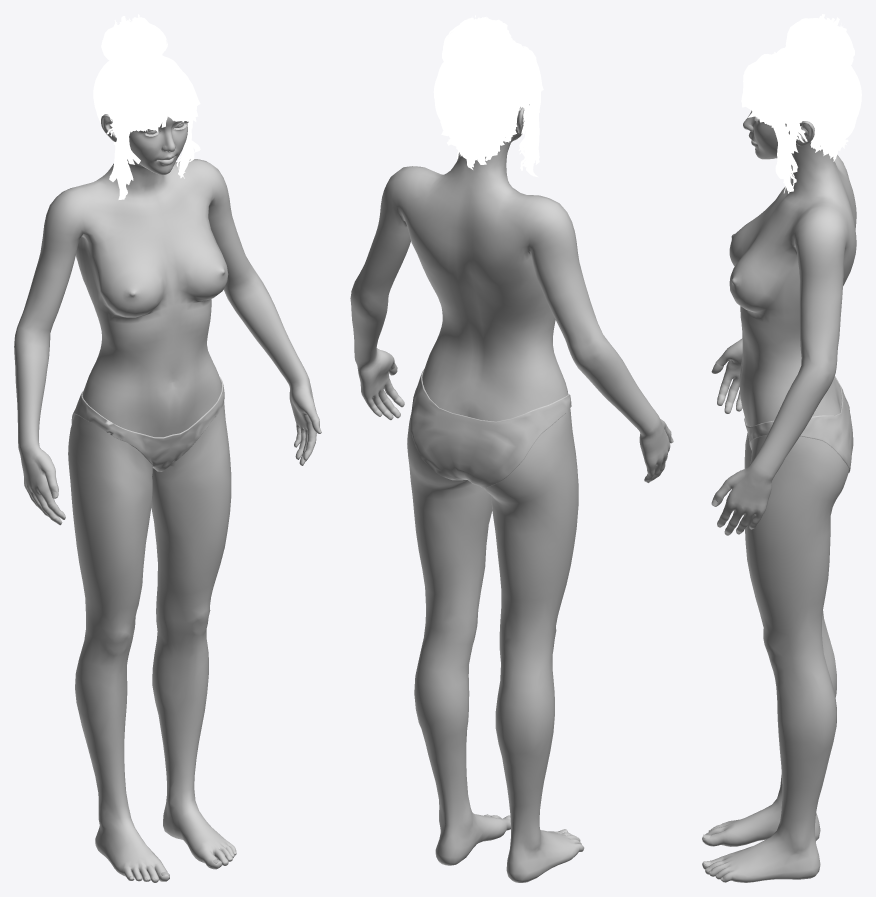
The model's file is body.glb.
3 views of the same model, side by side, from view 1: azimuth 30°, elevation 25°; view 2: azimuth 150°, elevation 25°; view 3: azimuth 270°, elevation 25° (orthographic). The views are drawn at different scales.
Parts seen in each view (by area): view 1: Body, Hair_30629, Underwear_Bottoms; view 2: Body, Hair_30629, Underwear_Bottoms; view 3: Body, Hair_30629, Underwear_Bottoms.
Boxes of the visible parts, <box> form: Body: <box>14,114,321,882</box>; Hair_30629: <box>93,14,200,199</box>; Underwear_Bottoms: <box>71,376,224,471</box>; Body: <box>350,104,673,882</box>; Hair_30629: <box>433,15,543,177</box>; Underwear_Bottoms: <box>410,369,571,487</box>; Body: <box>702,110,856,882</box>; Hair_30629: <box>741,14,861,193</box>; Underwear_Bottoms: <box>744,376,853,472</box>.
Size of the model in its own units: 0.6519 by 1.78 by 0.3065.
Materials: 2 (1 with a texture image).
